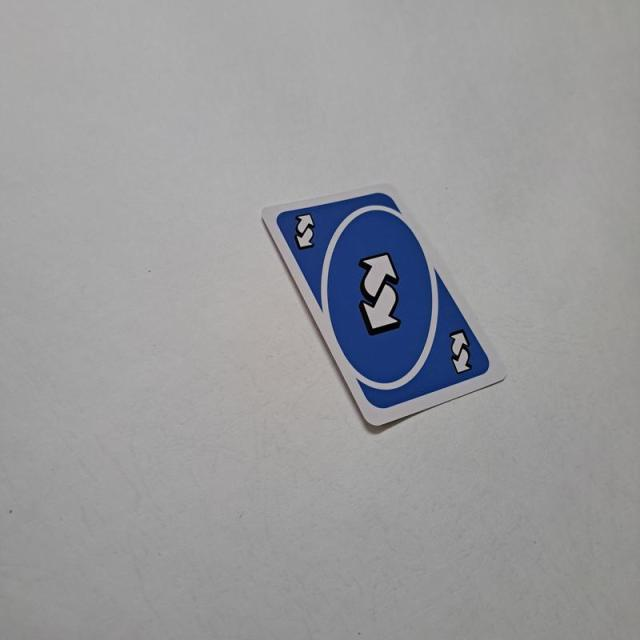Blue_Card: (275, 188, 493, 413)
Reverse: (288, 204, 319, 255)
